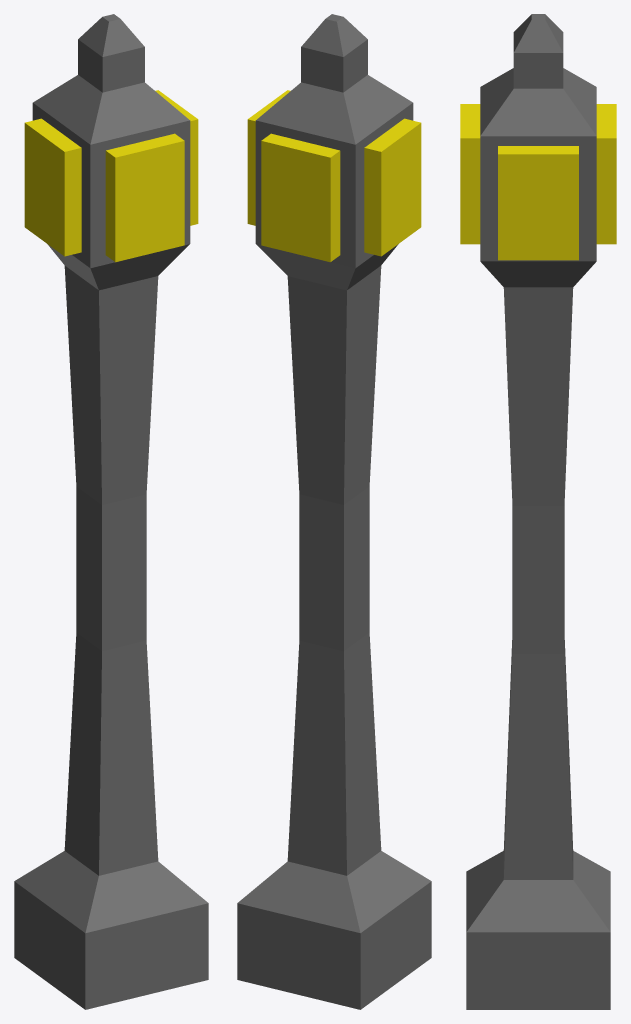
Rendered from sokak_lamba.fbx.
3 renders of one model, left to right at view 1: azimuth 30°, elevation 25°; view 2: azimuth 150°, elevation 25°; view 3: azimuth 270°, elevation 25°, orthographic.
Parts seen in each view (by area): view 1: Cube; view 2: Cube; view 3: Cube.
Boxes of the visible parts, x1,y1,x2,y2 form: Cube: (14,14,208,1009); Cube: (237,14,431,1009); Cube: (460,14,616,1009).
Bounding box in the file's own units: 9.48 × 64.43 × 9.48.
